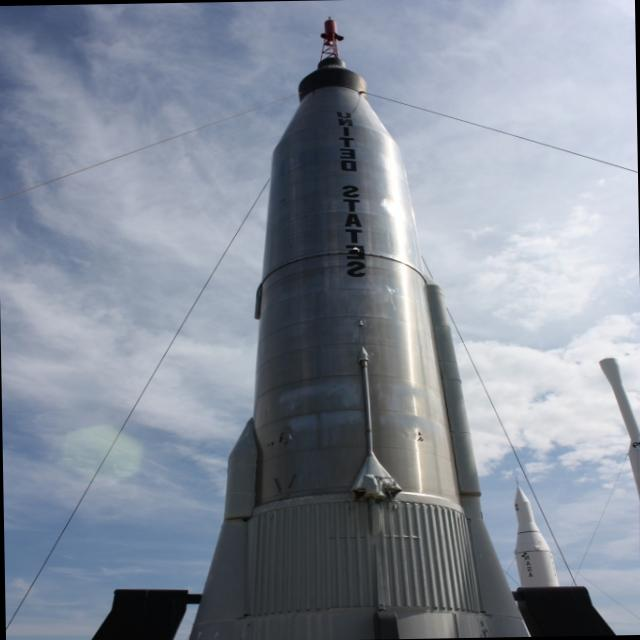rocket: (174, 8, 577, 640)
